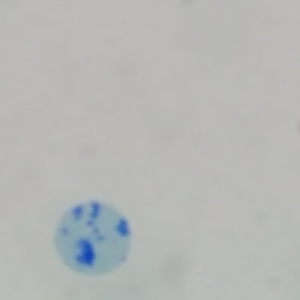aggregate reticulocyte: (51, 199, 134, 277)
